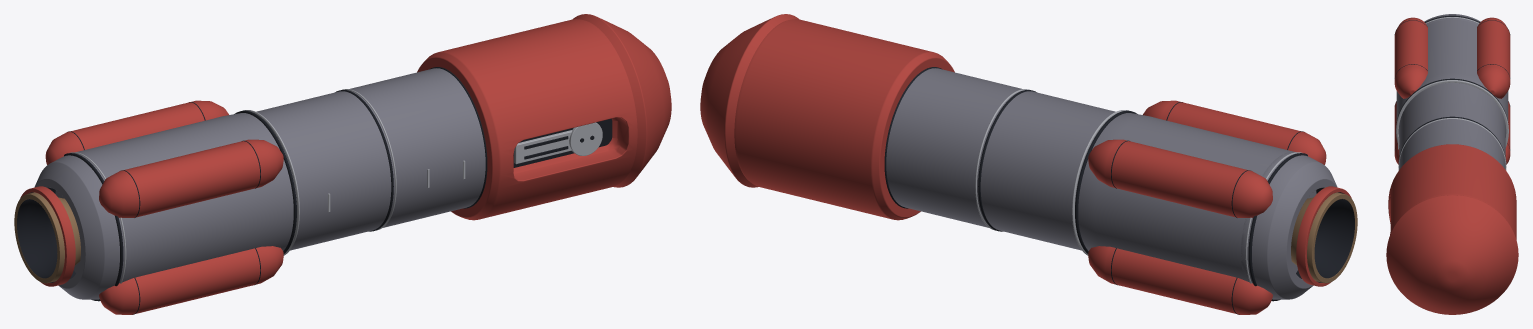
3 views of the same model, side by side, from view 1: azimuth 30°, elevation 25°; view 2: azimuth 150°, elevation 25°; view 3: azimuth 270°, elevation 25° (orthographic). The views are drawn at different scales.
Parts seen in each view (by area): view 1: TI088 / Segmented pressure body, TI088 / Red warhead jacket, TI088 / Red tail stabilizer pod.002, TI088 / Hollow aft pressure skirt, TI088 / Red tail stabilizer pod.003, TI088 / Explosive rounded shoulder nose, TI088 / Hollow propulsion bell, TI088 / Red tail stabilizer pod.001, TI088 / Nozzle red retaining collar, TI088 / Explosive long instrument insert, TI088 / Warhead instrumentation disk, TI088 / Instrument channel back wall (+4 smaller); view 2: TI088 / Segmented pressure body, TI088 / Red warhead jacket, TI088 / Red tail stabilizer pod.001, TI088 / Hollow aft pressure skirt, TI088 / Red tail stabilizer pod, TI088 / Explosive rounded shoulder nose, TI088 / Hollow propulsion bell, TI088 / Red tail stabilizer pod.002, TI088 / Nozzle red retaining collar, TI088 / Pressure casing circumferential joint.001, TI088 / Joint machined lip.001, TI088 / Pressure casing circumferential joint.002 (+1 smaller); view 3: TI088 / Explosive rounded shoulder nose, TI088 / Segmented pressure body, TI088 / Red warhead jacket, TI088 / Red tail stabilizer pod.001, TI088 / Red tail stabilizer pod.002, TI088 / Joint machined lip.001, TI088 / Joint machined lip.002, TI088 / Hollow aft pressure skirt, TI088 / Red tail stabilizer pod, TI088 / Red tail stabilizer pod.003, TI088 / Pressure casing circumferential joint.001, TI088 / Pressure casing circumferential joint.002.
Boxes of the visible parts, x1,y1,x2,y2 form: TI088 / Segmented pressure body: (55, 68, 485, 280); TI088 / Red warhead jacket: (417, 19, 637, 220); TI088 / Red tail stabilizer pod.002: (99, 139, 283, 217); TI088 / Hollow aft pressure skirt: (34, 151, 130, 299); TI088 / Red tail stabilizer pod.003: (99, 246, 283, 314); TI088 / Explosive rounded shoulder nose: (572, 14, 671, 187); TI088 / Hollow propulsion bell: (14, 192, 80, 283); TI088 / Red tail stabilizer pod.001: (45, 100, 228, 164); TI088 / Nozzle red retaining collar: (20, 186, 75, 286); TI088 / Explosive long instrument insert: (514, 130, 571, 164); TI088 / Warhead instrumentation disk: (569, 122, 602, 155); TI088 / Instrument channel back wall: (513, 118, 612, 167); TI088 / Segmented pressure body: (886, 68, 1316, 281); TI088 / Red warhead jacket: (734, 19, 954, 220); TI088 / Red tail stabilizer pod.001: (1088, 139, 1272, 217); TI088 / Hollow aft pressure skirt: (1241, 152, 1337, 299); TI088 / Red tail stabilizer pod: (1088, 246, 1272, 314); TI088 / Explosive rounded shoulder nose: (700, 14, 799, 187); TI088 / Hollow propulsion bell: (1291, 192, 1357, 283); TI088 / Red tail stabilizer pod.002: (1143, 100, 1326, 164); TI088 / Nozzle red retaining collar: (1296, 186, 1351, 286); TI088 / Pressure casing circumferential joint.001: (1075, 110, 1137, 253); TI088 / Joint machined lip.001: (1072, 110, 1129, 255); TI088 / Pressure casing circumferential joint.002: (978, 90, 1036, 231); TI088 / Explosive rounded shoulder nose: (1386, 195, 1518, 314); TI088 / Segmented pressure body: (1396, 18, 1508, 169); TI088 / Red warhead jacket: (1388, 144, 1516, 239); TI088 / Red tail stabilizer pod.001: (1477, 17, 1510, 98); TI088 / Red tail stabilizer pod.002: (1394, 17, 1427, 98); TI088 / Joint machined lip.001: (1396, 80, 1508, 147); TI088 / Joint machined lip.002: (1398, 118, 1506, 170); TI088 / Hollow aft pressure skirt: (1424, 14, 1480, 24); TI088 / Red tail stabilizer pod: (1505, 102, 1510, 164); TI088 / Red tail stabilizer pod.003: (1394, 102, 1399, 164); TI088 / Pressure casing circumferential joint.001: (1396, 78, 1508, 124); TI088 / Pressure casing circumferential joint.002: (1398, 116, 1506, 161).
Bounding box in the file's own units: 6.16 × 1.52 × 1.52.
